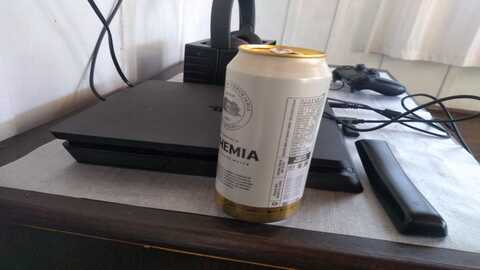bohemia: (212, 44, 334, 220)
